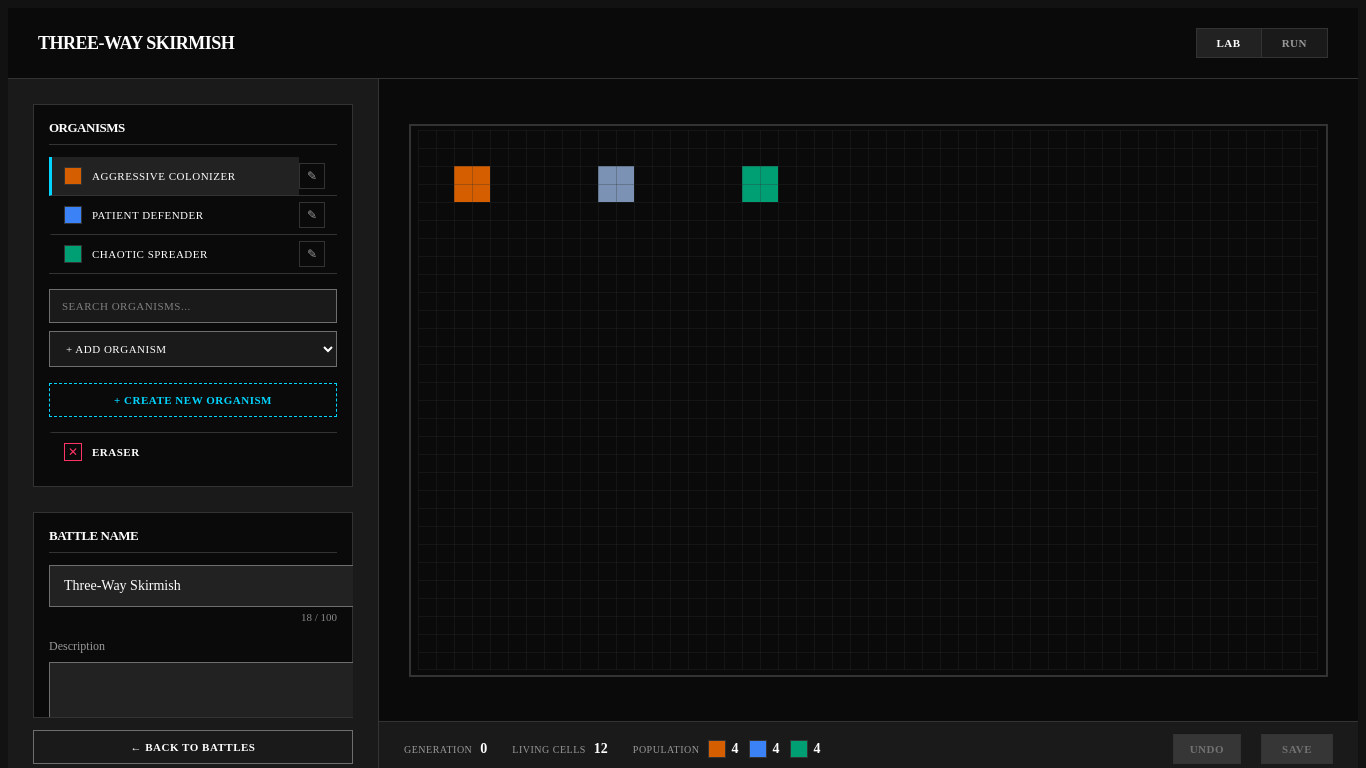
Test case: BattlePage — adding organisms from the library (Story 2.10) › offers the library minus the roster, and adding appends a row with the organism’s real name (AC1, AC3)
The image size is (1366, 768).
Check: the heading "Three-Way Skirmish" is shown, box [38,32,234,54]
Select "Conway's Classic" in the dropdown named "add organism": (193, 349) [49,331,337,367]
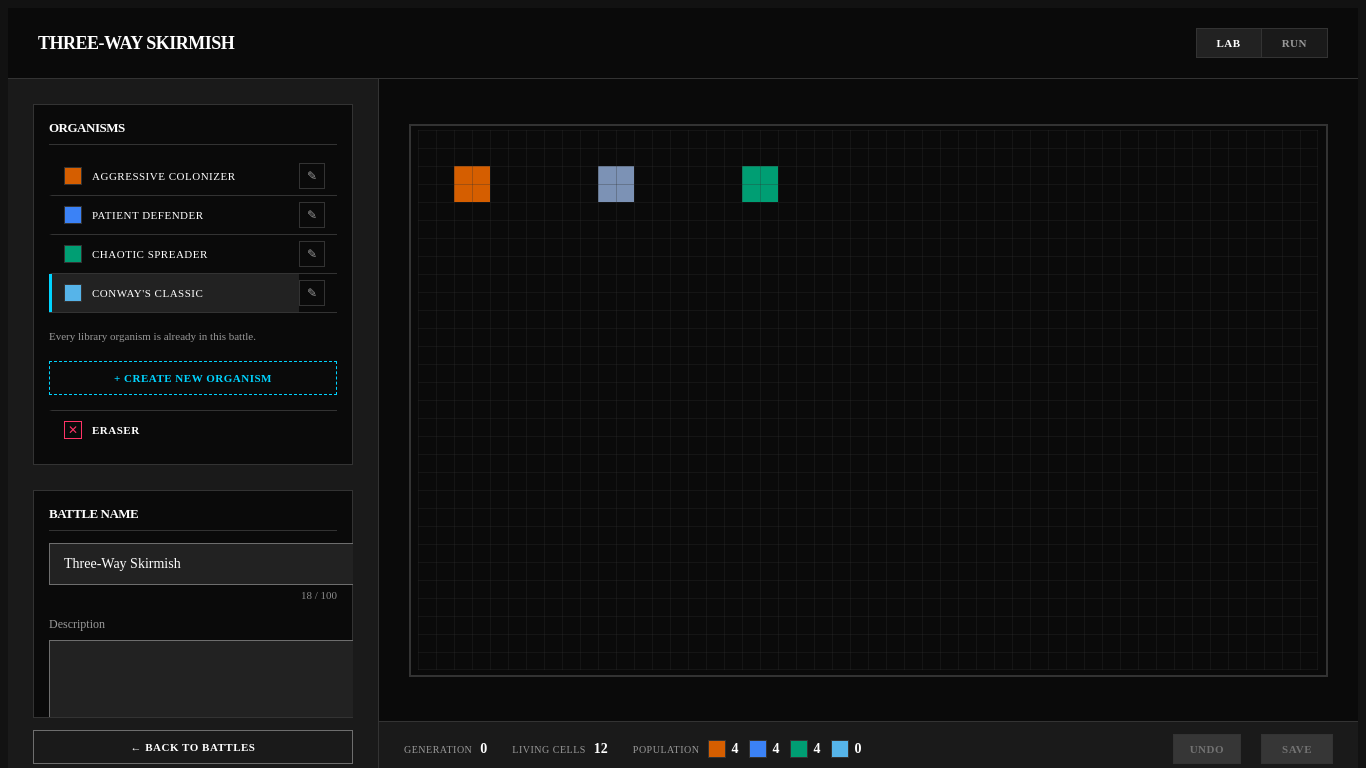
Check: the dropdown is gone
Check: the text "Every library organism is already in this battle." is shown, box [49,330,256,342]
